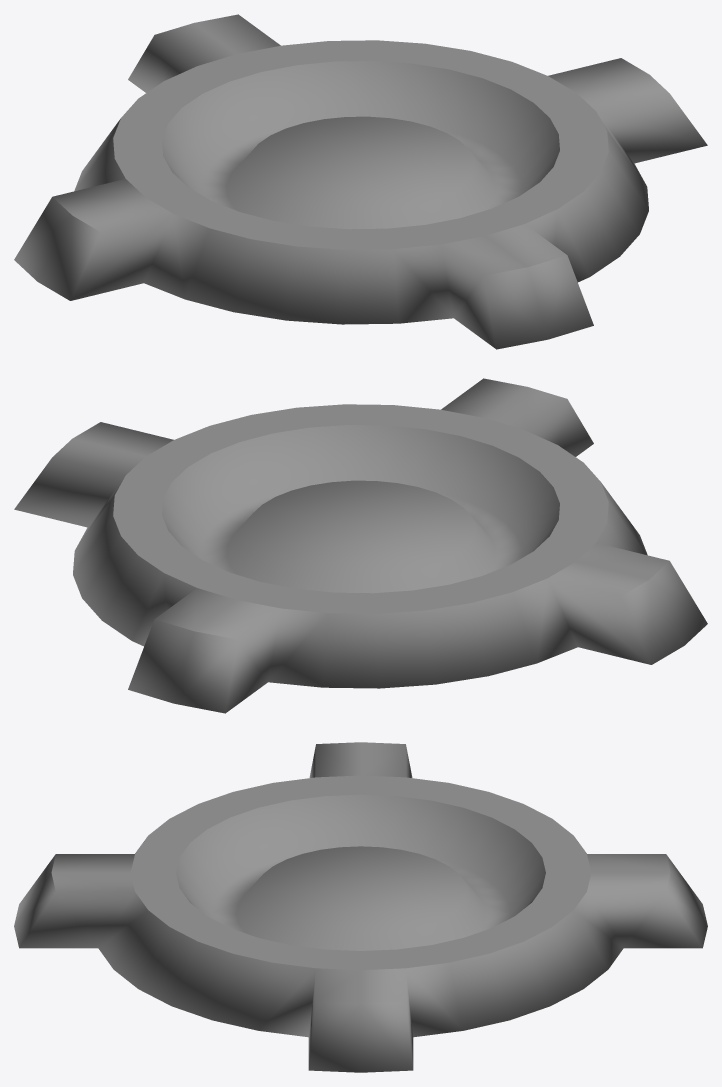
Rendered from Item_Holder.glb.
3 views of the same model, one above another, from view 1: azimuth 30°, elevation 25°; view 2: azimuth 150°, elevation 25°; view 3: azimuth 270°, elevation 25° (orthographic). The views are drawn at different scales.
Visible parts, largest first — view 1: Circle; view 2: Circle; view 3: Circle.
Boxes of the visible parts, x1,y1,x2,y2 form: Circle: (14, 14, 707, 349); Circle: (14, 378, 707, 713); Circle: (14, 742, 707, 1072).
Bounding box in the file's own units: 2.59 × 0.2204 × 2.59.
1 material, 1 textured.
